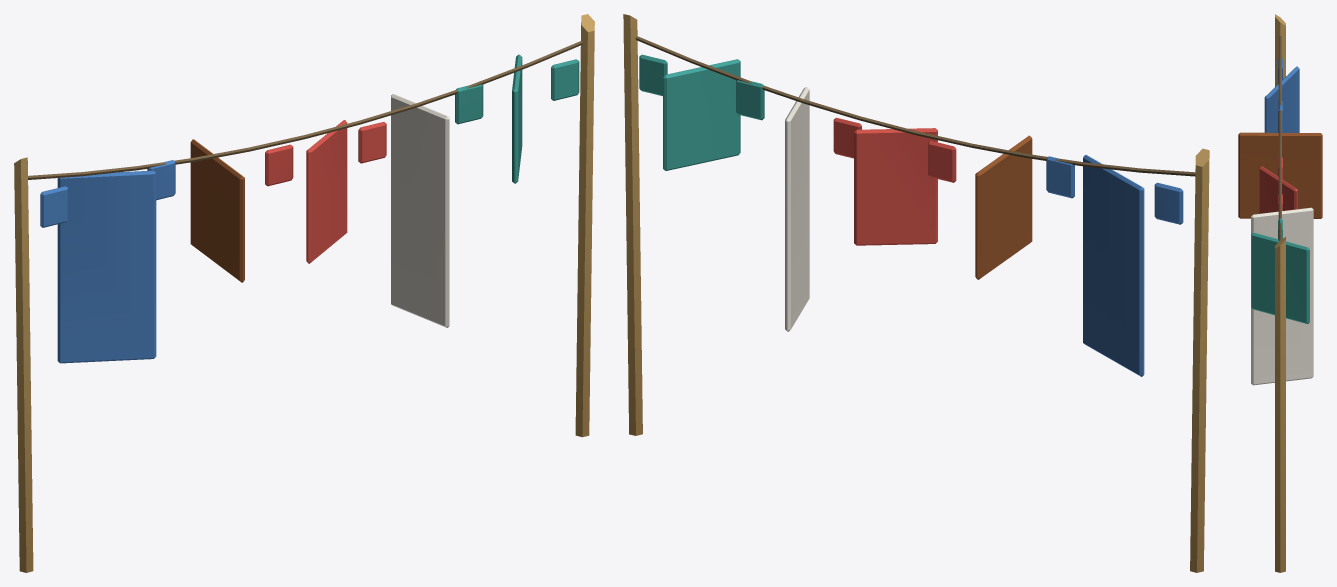
The model's file is jemuran.glb.
3 renders of one model, left to right at view 1: azimuth 30°, elevation 25°; view 2: azimuth 150°, elevation 25°; view 3: azimuth 270°, elevation 25°, orthographic. The views are drawn at different scales.
Visible parts, largest first — view 1: jemuran_mesh; view 2: jemuran_mesh; view 3: jemuran_mesh.
Part boxes in pixels (x1,y1,x2,y2): jemuran_mesh: [14, 14, 594, 572]; jemuran_mesh: [623, 14, 1209, 572]; jemuran_mesh: [1238, 14, 1322, 572].
Bounding box in the file's own units: 2.72 × 1.86 × 0.4258.
